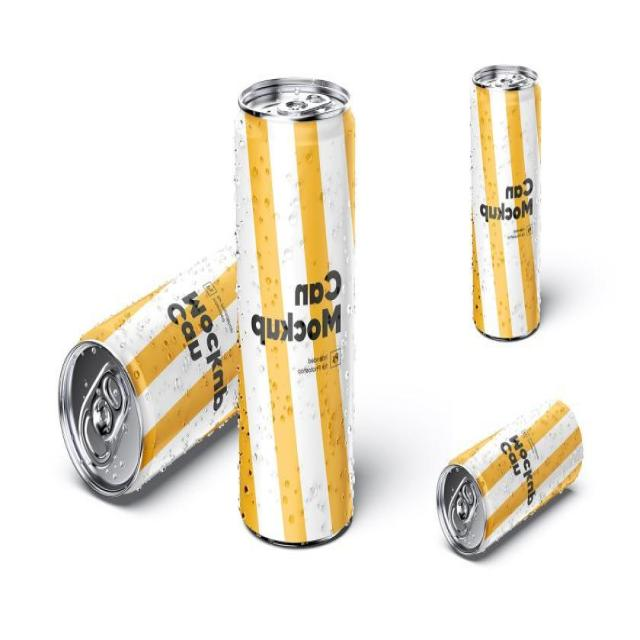metal: (235, 79, 355, 544), (59, 248, 239, 497), (436, 400, 584, 555), (470, 66, 541, 339)
